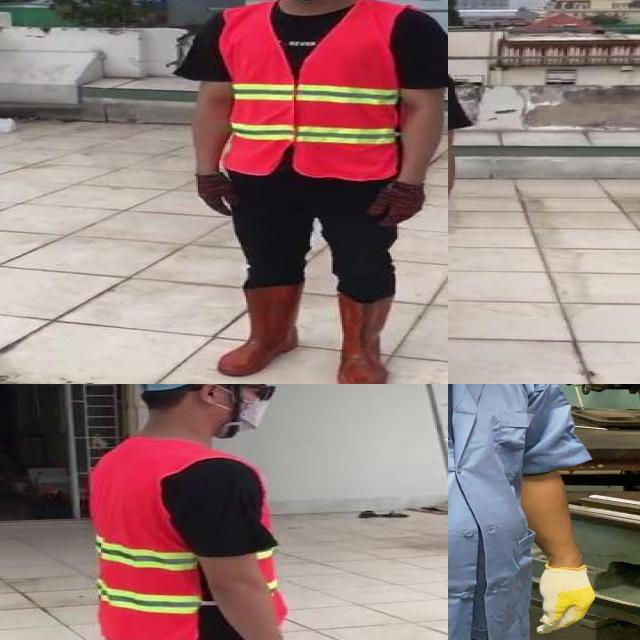boots: (218, 285, 301, 376), (333, 291, 391, 384)
hand_glove: (537, 565, 595, 634), (365, 182, 426, 228), (194, 173, 240, 219)
person: (188, 0, 448, 384), (78, 384, 311, 640)
vest: (90, 439, 284, 640), (218, 1, 400, 181)
